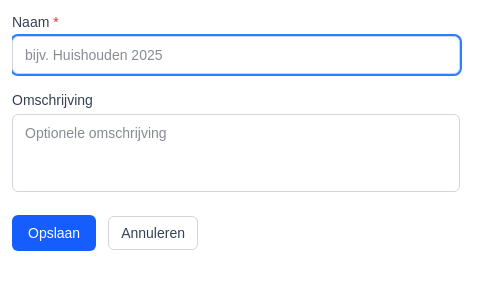
it: HuishoudboekjeForm › validation › shows an error when the form is submitted with an empty name
Click the button "Opslaan". click: click(54, 233)
box: [12, 215, 96, 251]
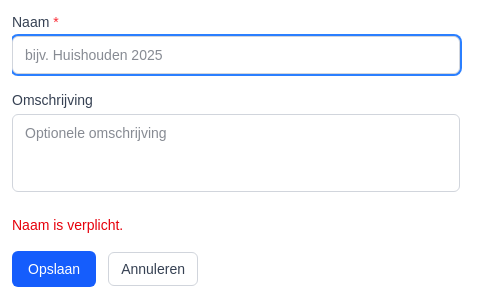
Result: the text "Naam is verplicht." is shown at [12, 217, 123, 233]
